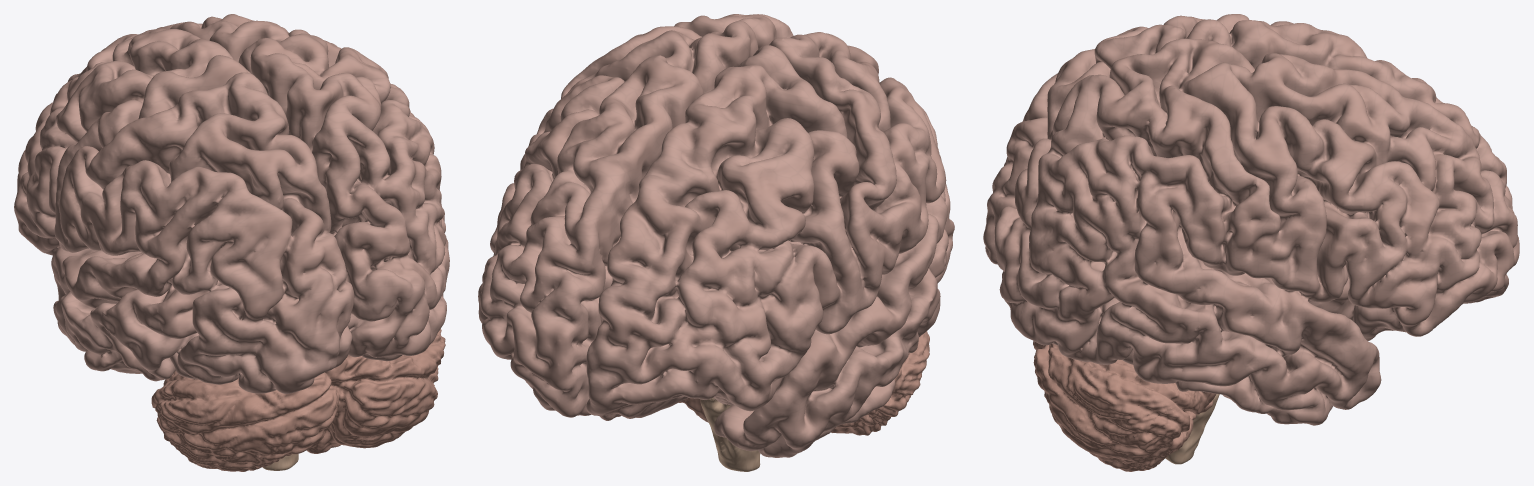
Rendered from whole.glb.
The picture shows the model from 3 angles, left to right: view 1: azimuth 30°, elevation 25°; view 2: azimuth 150°, elevation 25°; view 3: azimuth 270°, elevation 25°; orthographic projection. The views are drawn at different scales.
Parts seen in each view (by area): view 1: HEMI_L · 左大脑半球, HEMI_R · 右大脑半球, CEREBELLUM · 小脑; view 2: HEMI_L · 左大脑半球, HEMI_R · 右大脑半球, CEREBELLUM · 小脑, BRAINSTEM · 脑干; view 3: HEMI_R · 右大脑半球, HEMI_L · 左大脑半球, CEREBELLUM · 小脑, BRAINSTEM · 脑干.
Boxes of the visible parts, left/top/right/bottom form: HEMI_L · 左大脑半球: left=14, top=28, right=354, bottom=393; HEMI_R · 右大脑半球: left=157, top=14, right=449, bottom=361; CEREBELLUM · 小脑: left=151, top=329, right=445, bottom=471; HEMI_L · 左大脑半球: left=586, top=32, right=954, bottom=457; HEMI_R · 右大脑半球: left=478, top=14, right=793, bottom=417; CEREBELLUM · 小脑: left=678, top=331, right=929, bottom=435; BRAINSTEM · 脑干: left=700, top=397, right=760, bottom=471; HEMI_R · 右大脑半球: left=994, top=38, right=1519, bottom=425; HEMI_L · 左大脑半球: left=983, top=14, right=1512, bottom=264; CEREBELLUM · 小脑: left=1033, top=341, right=1216, bottom=471; BRAINSTEM · 脑干: left=1165, top=394, right=1219, bottom=464.
Bounding box in the file's own units: 0.1206 × 0.1383 × 0.161.
Materials: 3 (3 with a texture image).
